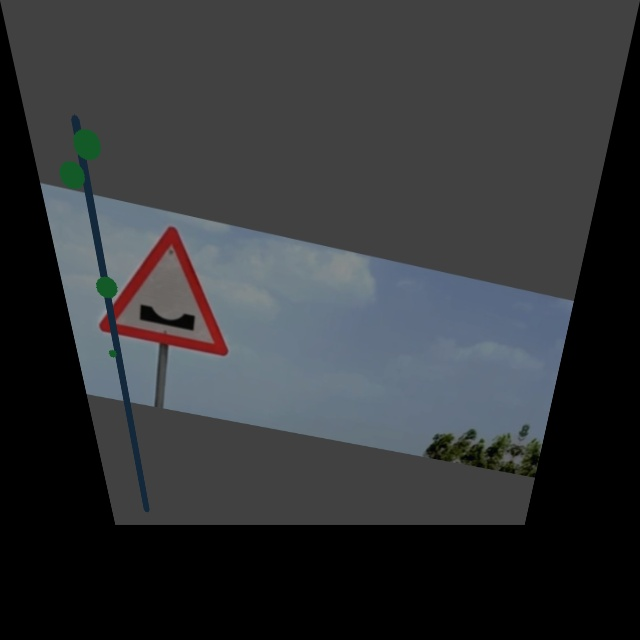Dangerous_Dip: (79, 212, 250, 357)
